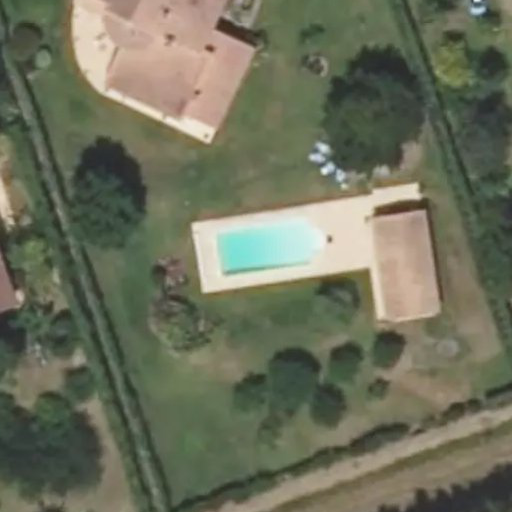pool: (197, 218, 317, 263)
